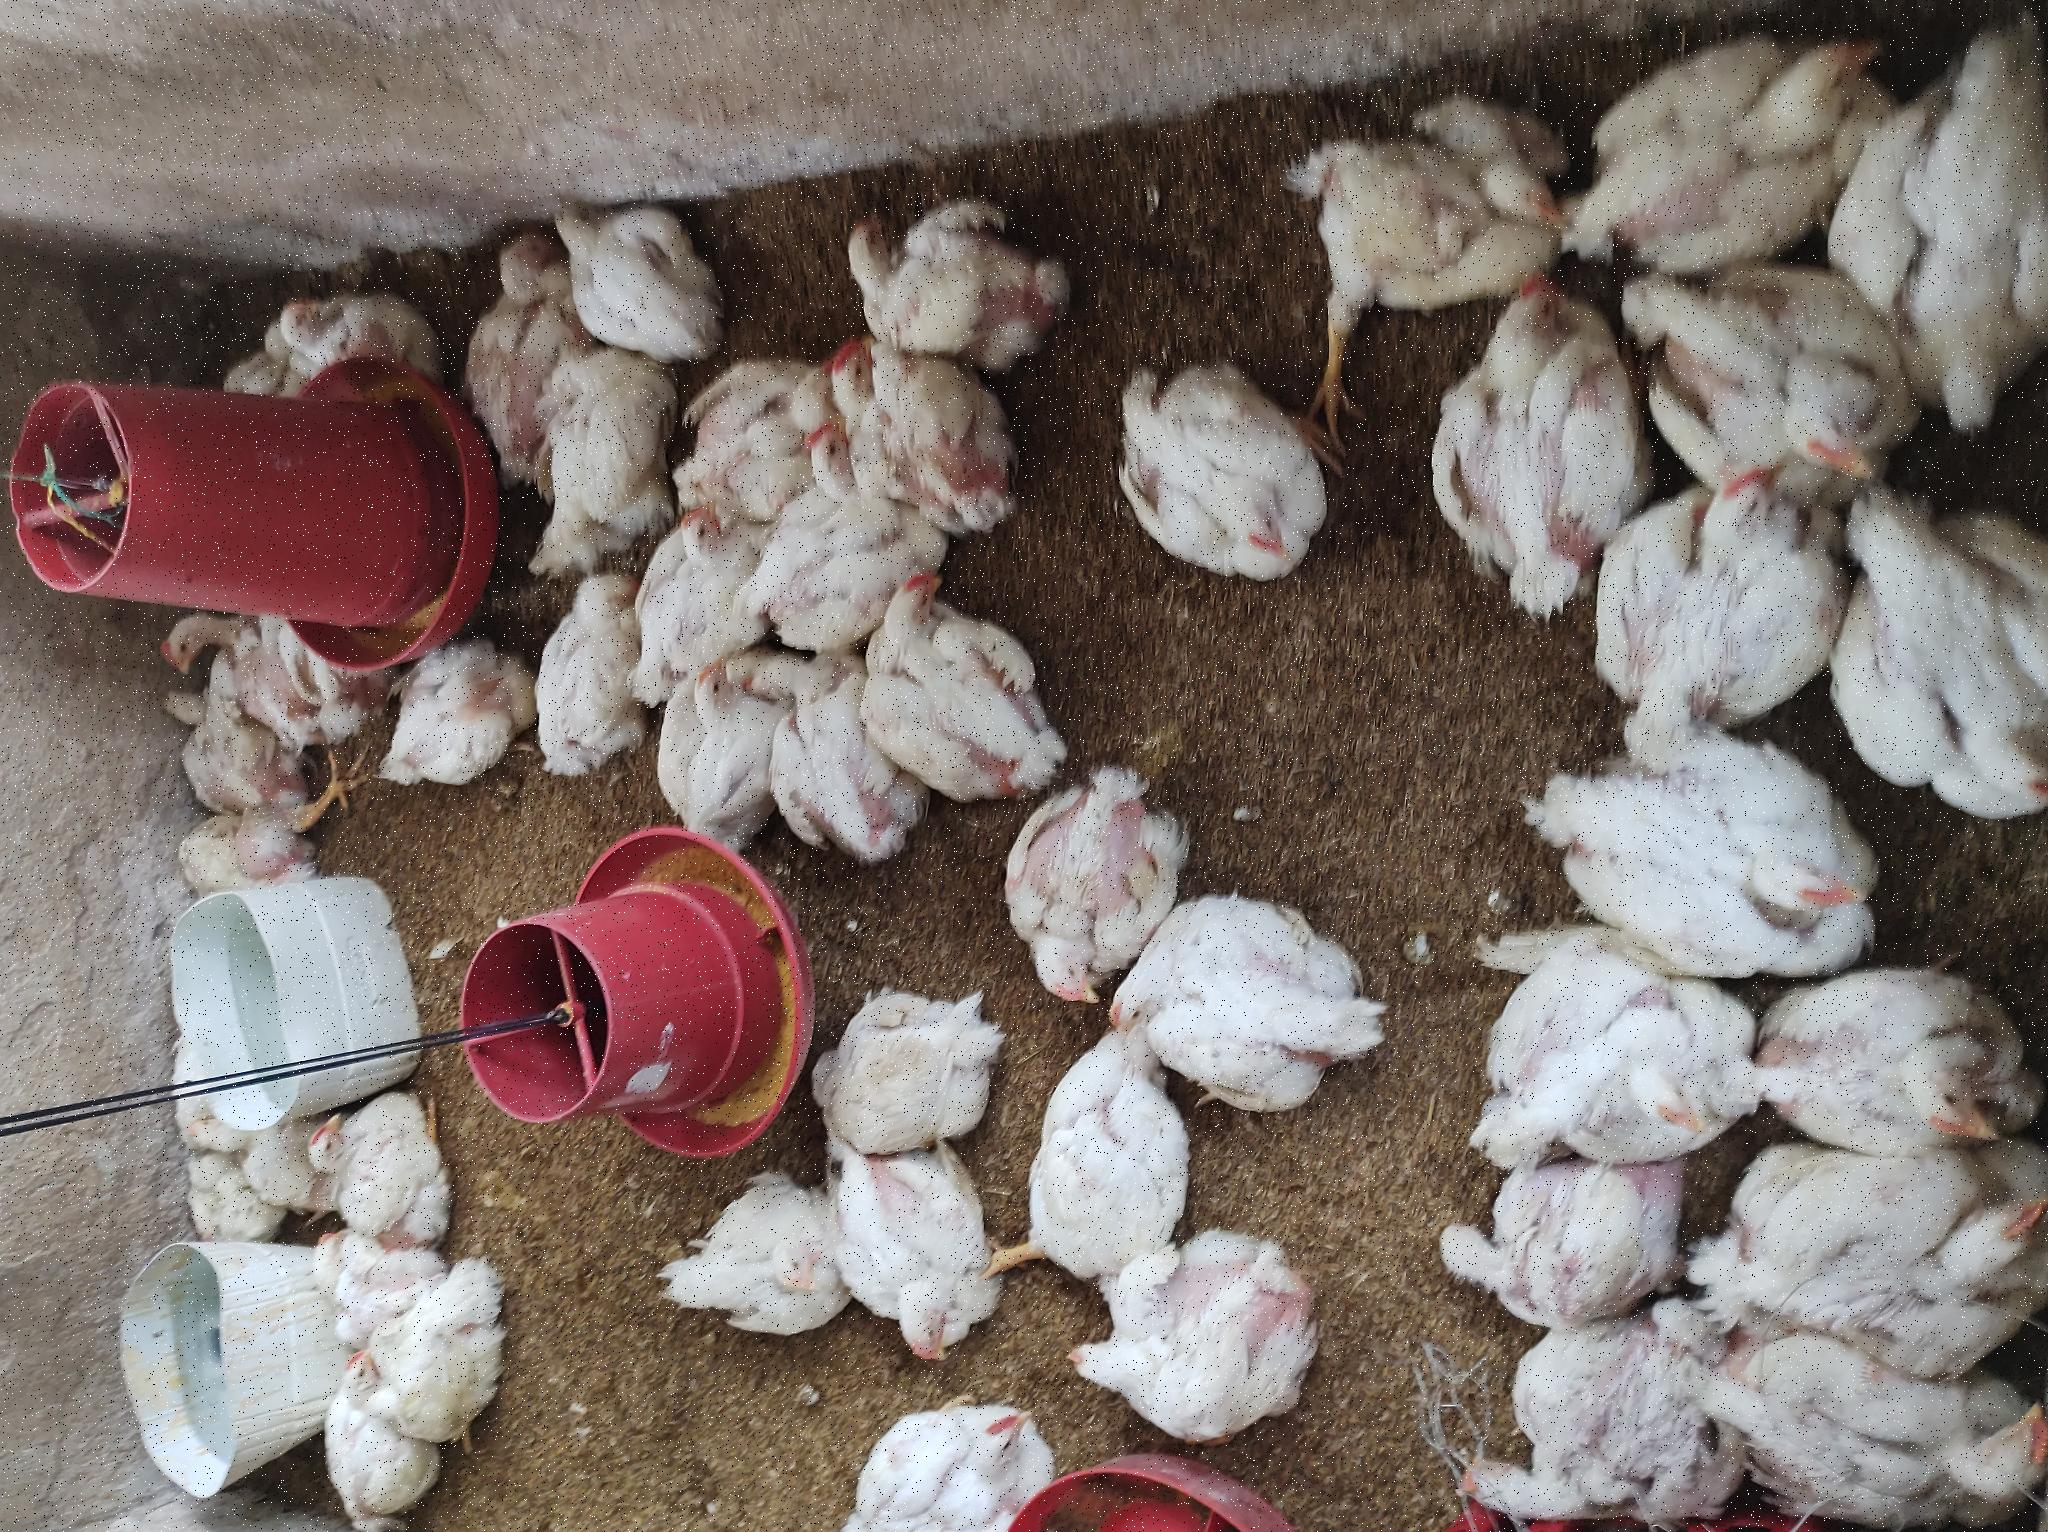Pollos: (434, 1110, 634, 1395), (940, 1114, 1199, 1329), (93, 1069, 299, 1310), (1244, 1299, 1451, 1532), (240, 986, 484, 1183), (505, 998, 767, 1172), (381, 797, 584, 1011), (742, 866, 962, 1060), (156, 811, 380, 1001), (960, 1416, 1242, 1532), (664, 632, 869, 790), (79, 367, 293, 517), (1194, 837, 1355, 1035), (1026, 829, 1189, 1012), (1181, 546, 1345, 726), (719, 525, 964, 644), (692, 727, 882, 872), (2, 850, 135, 1049), (1047, 465, 1322, 562), (861, 620, 1033, 769), (994, 534, 1166, 681), (212, 674, 365, 830), (753, 367, 893, 533), (1157, 249, 1253, 446), (216, 1419, 381, 1532), (314, 296, 454, 426), (730, 138, 845, 290), (627, 166, 729, 327), (985, 752, 1113, 872), (8, 1456, 208, 1532), (21, 328, 182, 422), (364, 1461, 558, 1532), (283, 166, 389, 291), (851, 153, 923, 254)
